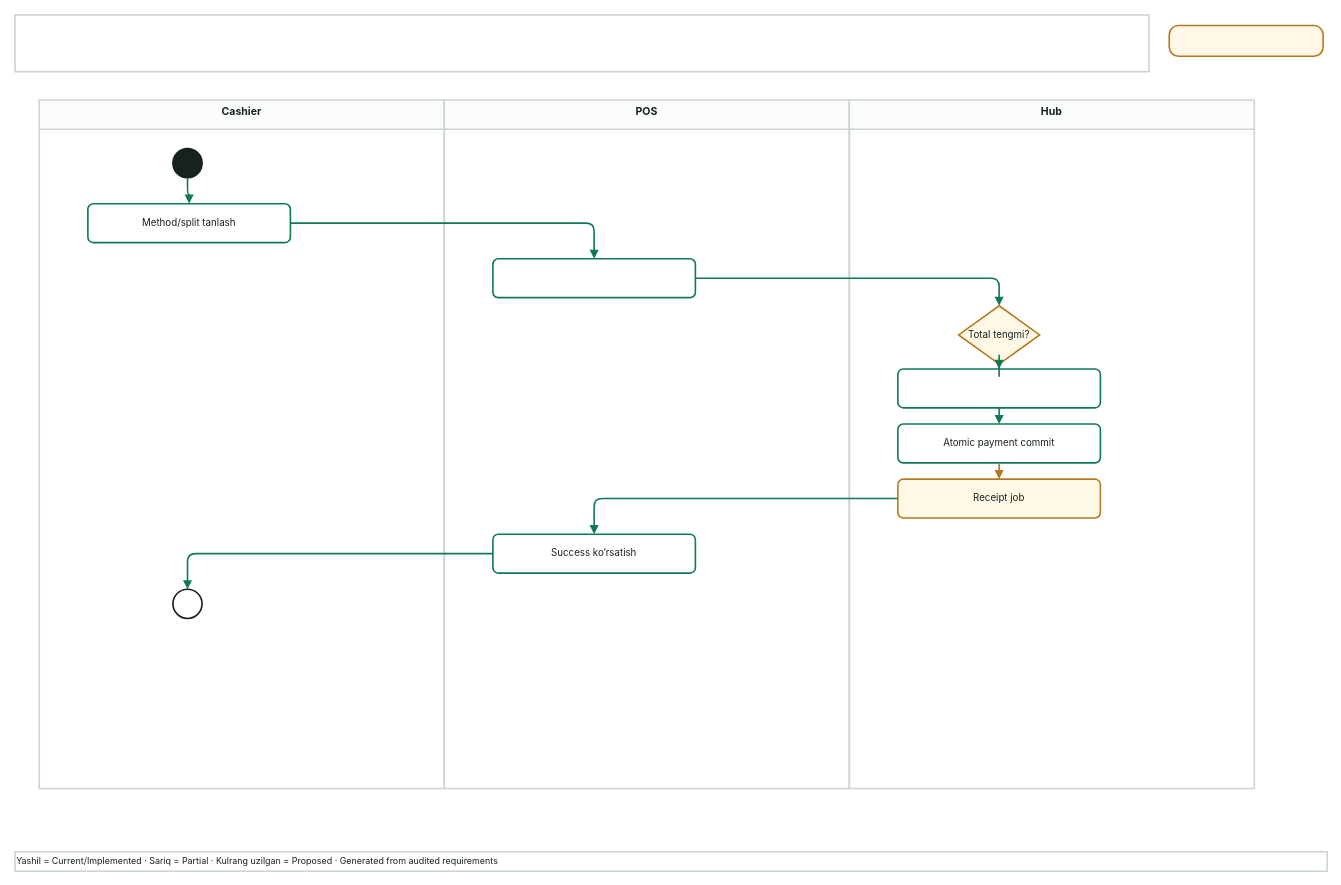
The diagram is 1341 pixels wide and 885 high, and some of its shapes have lost their labels. Here are the shapes that lost their labels. From the top down, the centre of each, then its label:
(581,43): D14 · Payment Activity UML Activity · osonCafe SDLC
(1246,40): Current + Partial
(594,278): Summalarni kiritish
(999,388): Idempotency tekshiruvi
